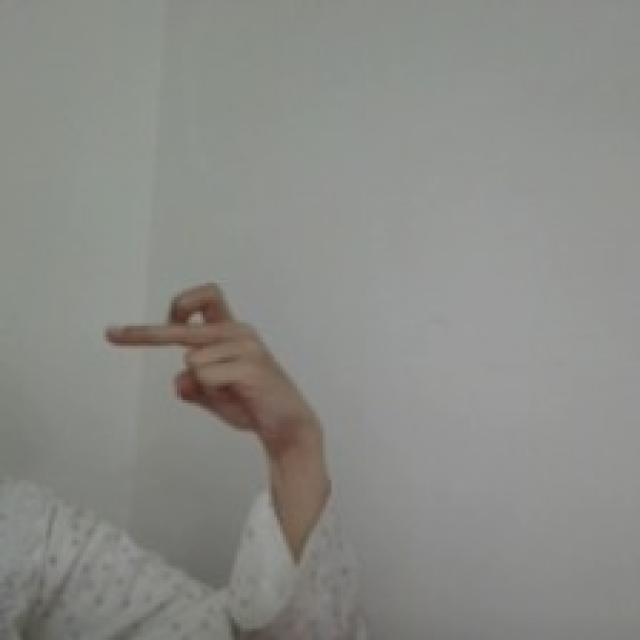sunday: (98, 275, 298, 450)
